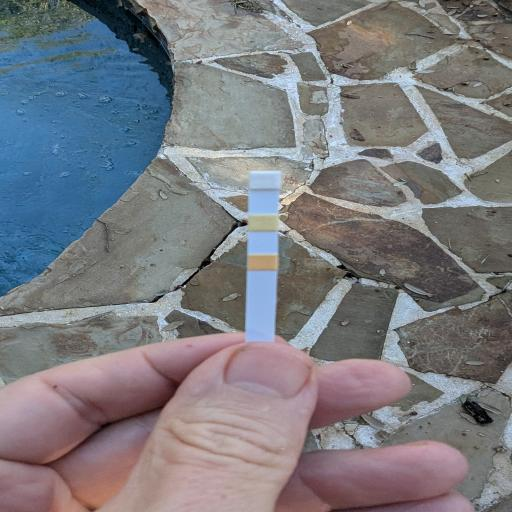strip: (246, 171, 281, 343)
